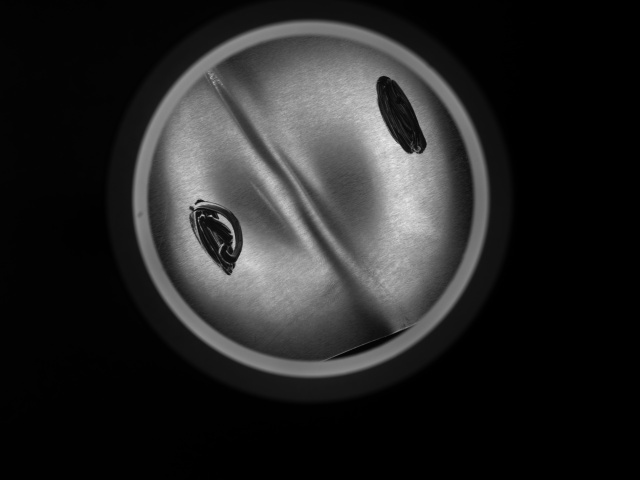zang_wu: (187, 194, 256, 276), (373, 72, 429, 159)
zhe_zhou: (190, 64, 430, 329)
